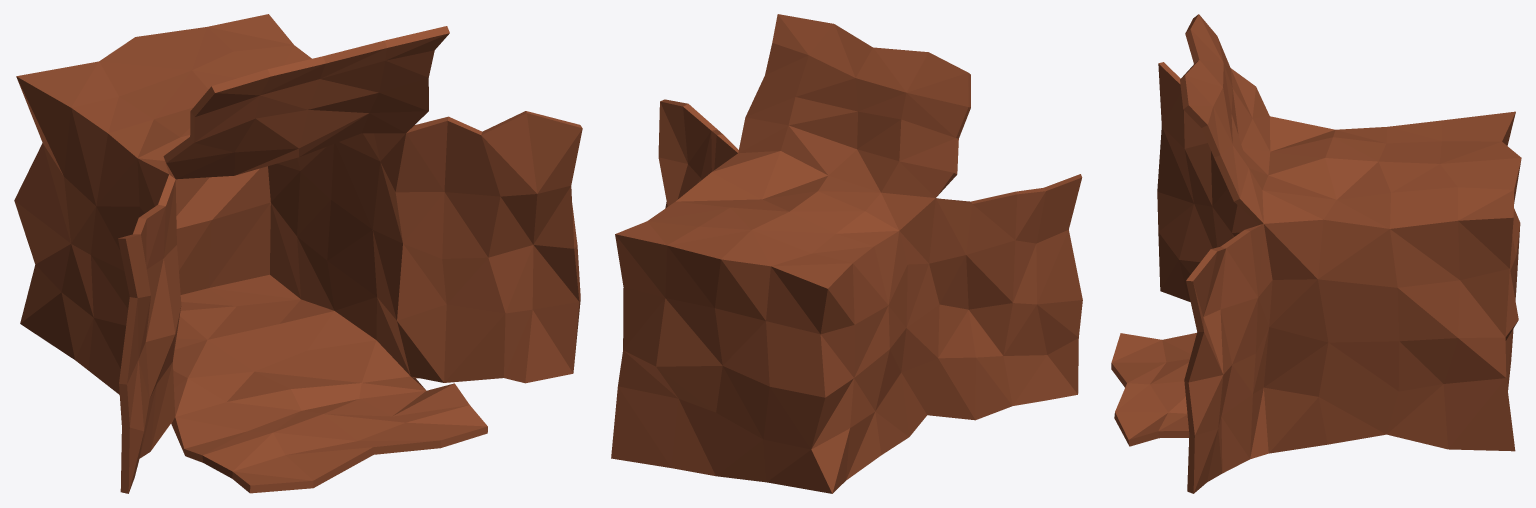
The picture shows the model from 3 angles, left to right: view 1: azimuth 30°, elevation 25°; view 2: azimuth 150°, elevation 25°; view 3: azimuth 270°, elevation 25°; orthographic projection. The views are drawn at different scales.
Parts seen in each view (by area): view 1: box; view 2: box; view 3: box.
Boxes of the visible parts, left/top/right/bottom form: box: left=14, top=14, right=582, bottom=493; box: left=611, top=14, right=1082, bottom=493; box: left=1111, top=14, right=1521, bottom=493.
Bounding box in the file's own units: 201 × 157 × 169.
